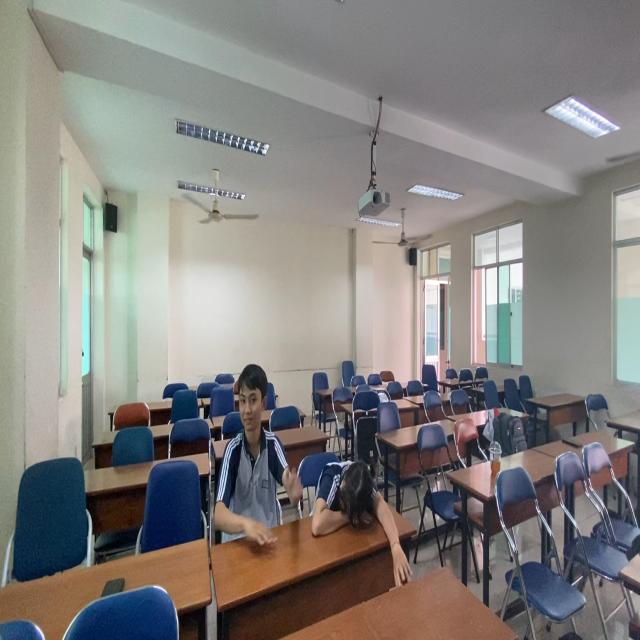sleep: (310, 443, 412, 556)
